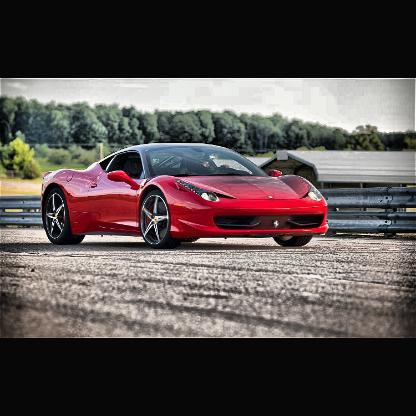Ferrari 458 Italia Coupe 2012: (41, 142, 332, 249)
